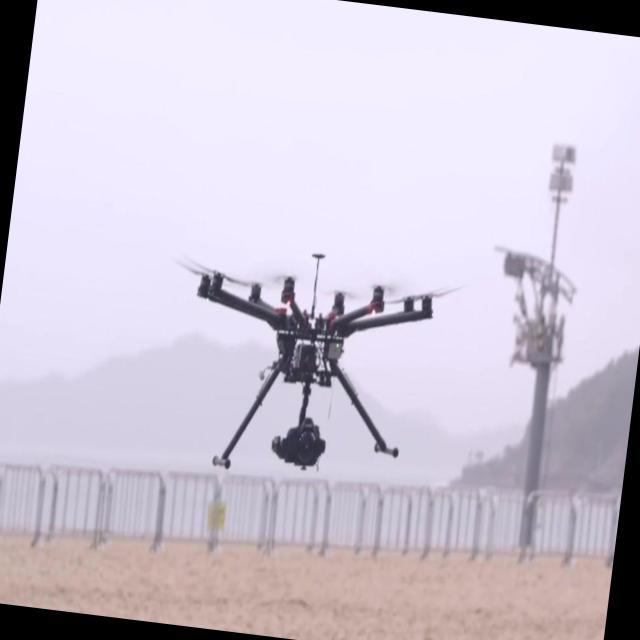drone: (162, 234, 466, 503)
